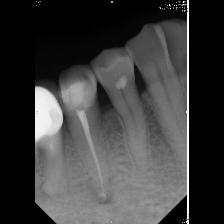apical_lesion: (59, 63, 133, 221)
